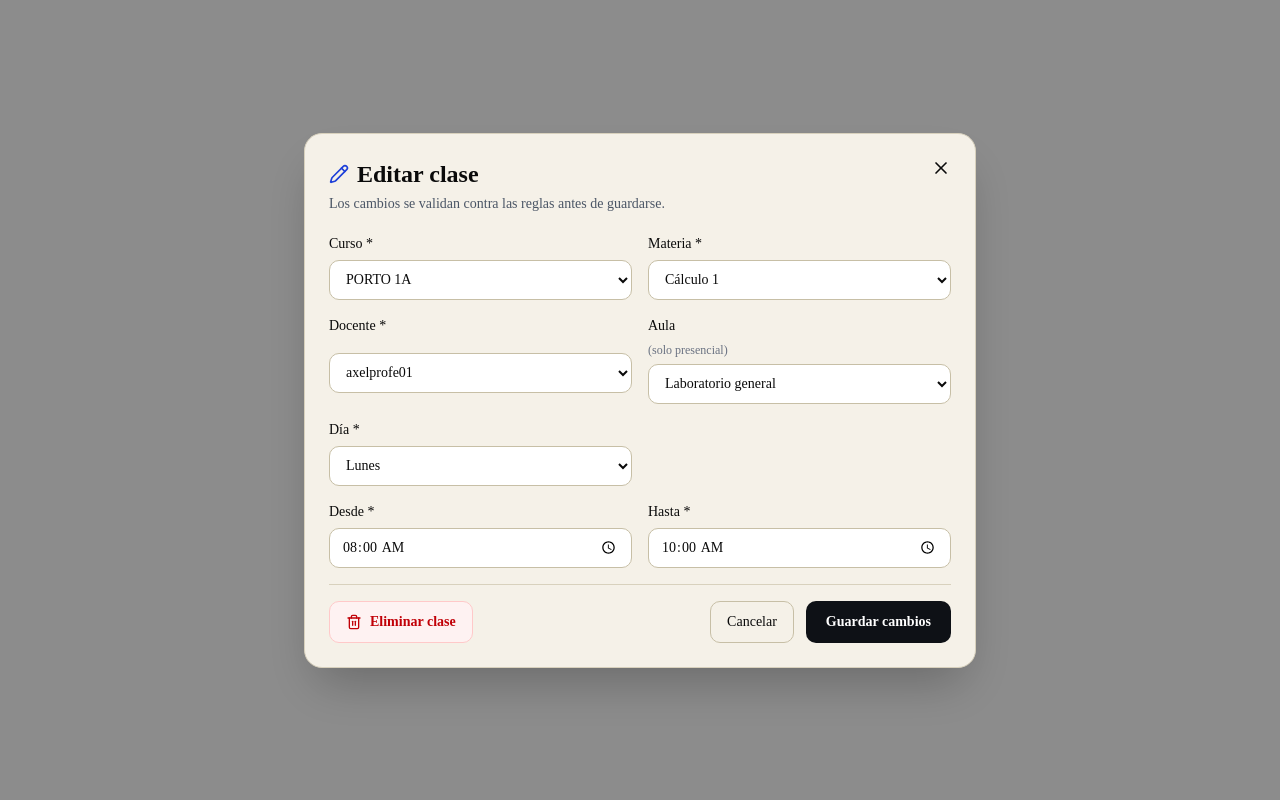
Test case: EditarSesionDialog › al cambiar a un curso de otro semestre limpia la materia inválida
The image size is (1280, 800).
Step 1. Select "PORTO 5A" in the dropdown labelled "Curso *" → (480, 280), box [329,260,632,300]
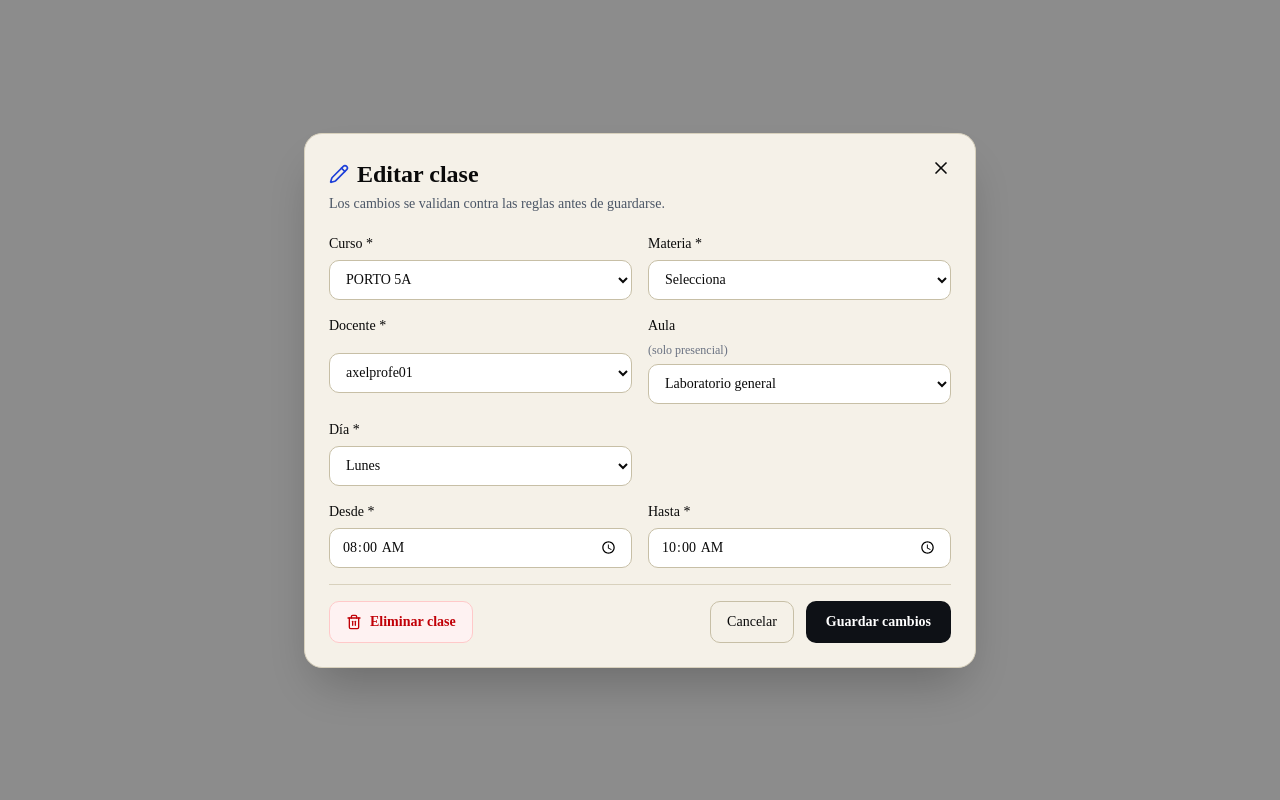
Expected: the text "Cálculo 1" is not shown
Expected: the dropdown labelled "Materia *" shows "Selecciona", [648,260,951,300]
